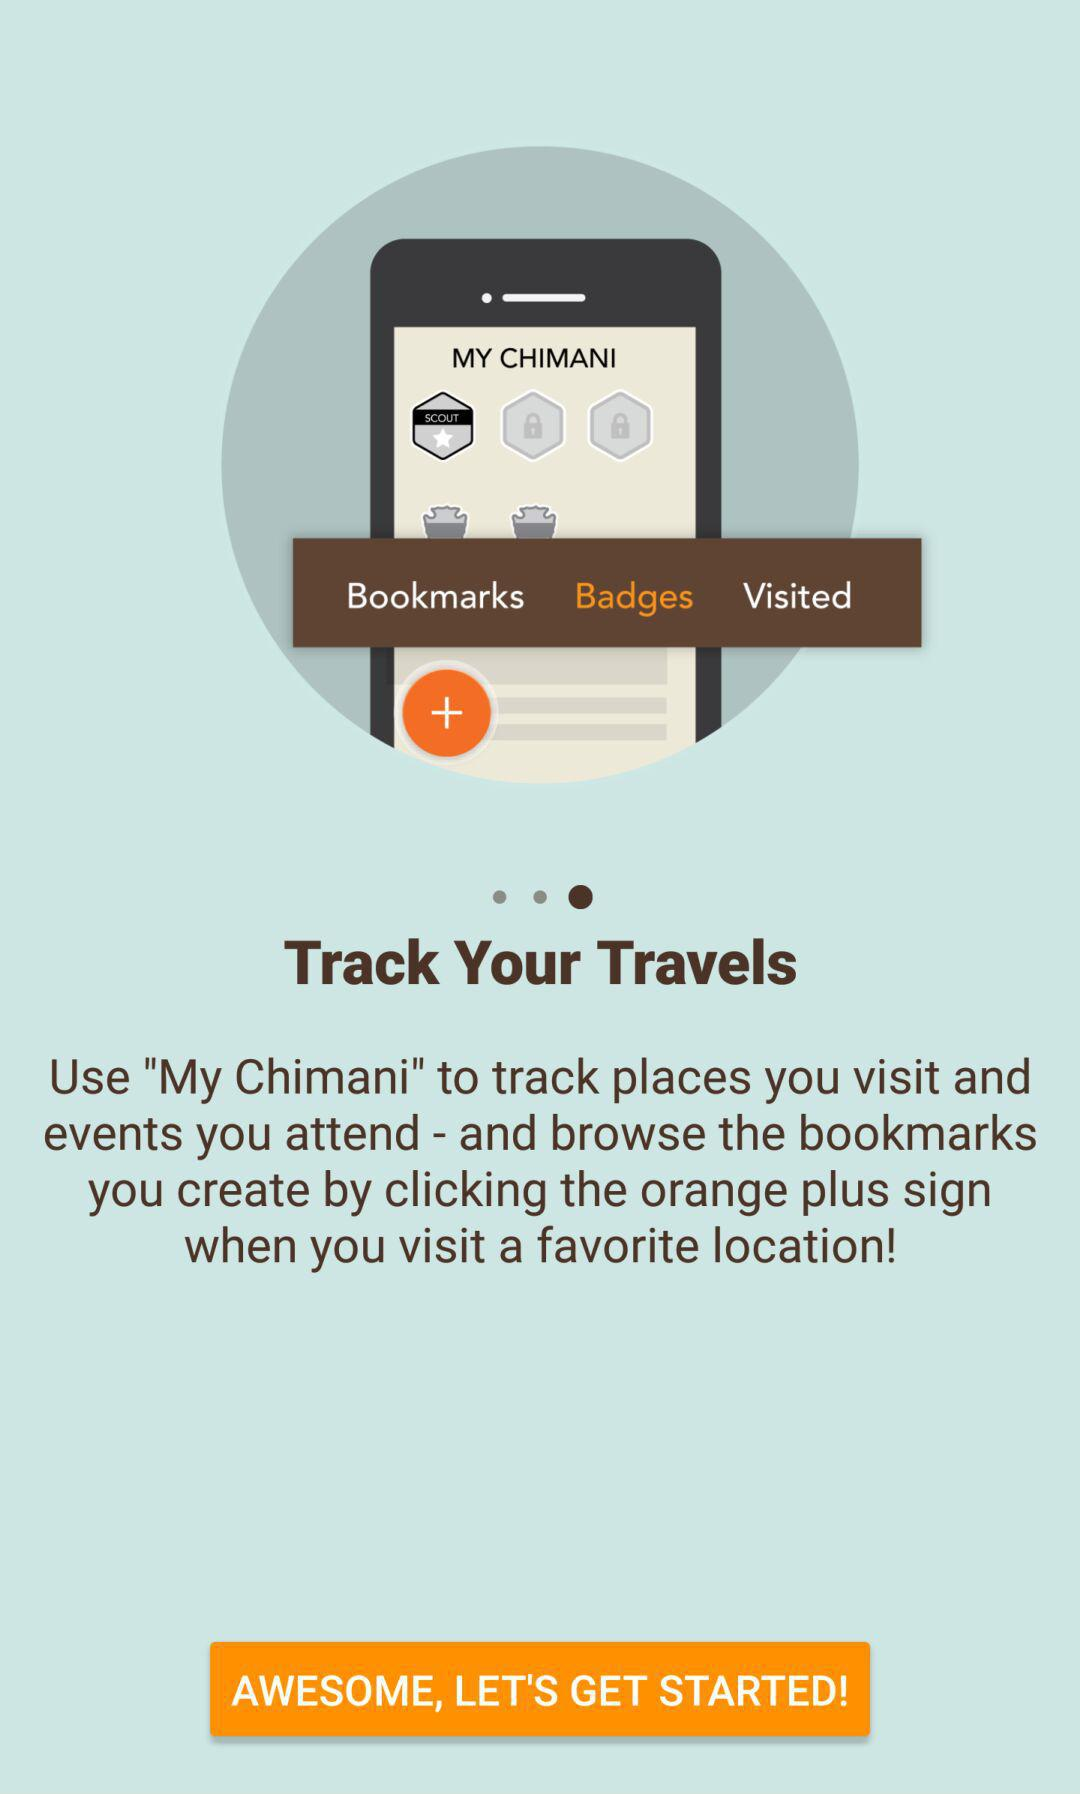Image: (220, 145, 922, 787)
PageIndicator: (491, 884, 594, 911)
Text: (44, 1053, 1036, 1274), (281, 935, 799, 987)
TextButton: (210, 1642, 871, 1738)
